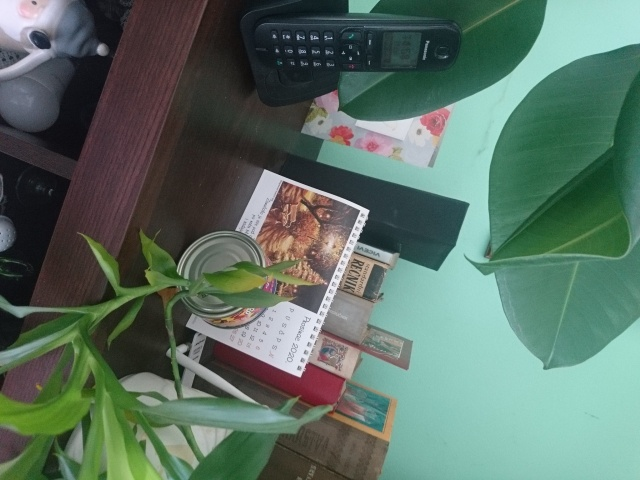Giana Tuna Salad Mexico 185g: (173, 227, 279, 331)
